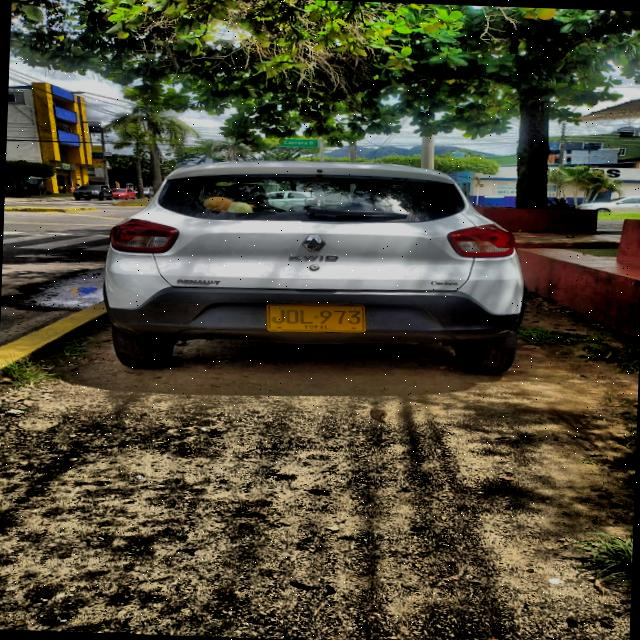plate: (267, 304, 364, 331)
